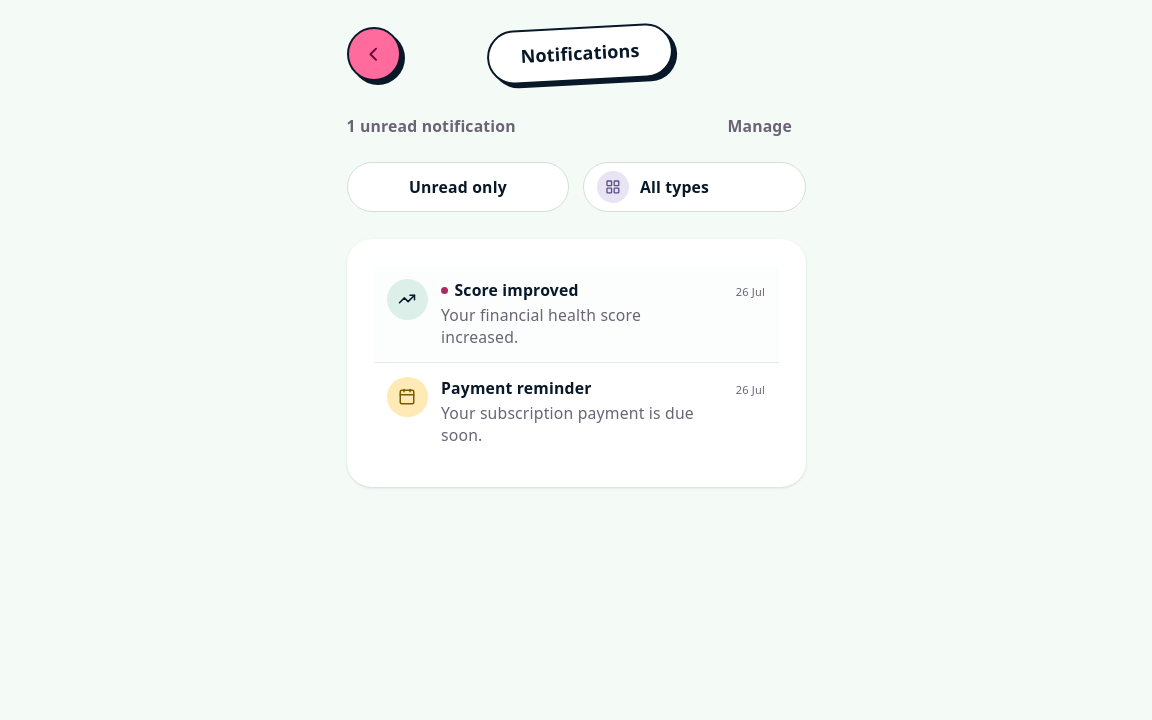
Test: NotificationsPage › sends the selected notification type
The width and height of the screenshot is (1152, 720).
Expected: the text "Score improved" is shown, [454,279,578,302]
Click the button "All types" at (694, 187), box [583,162,806,212]
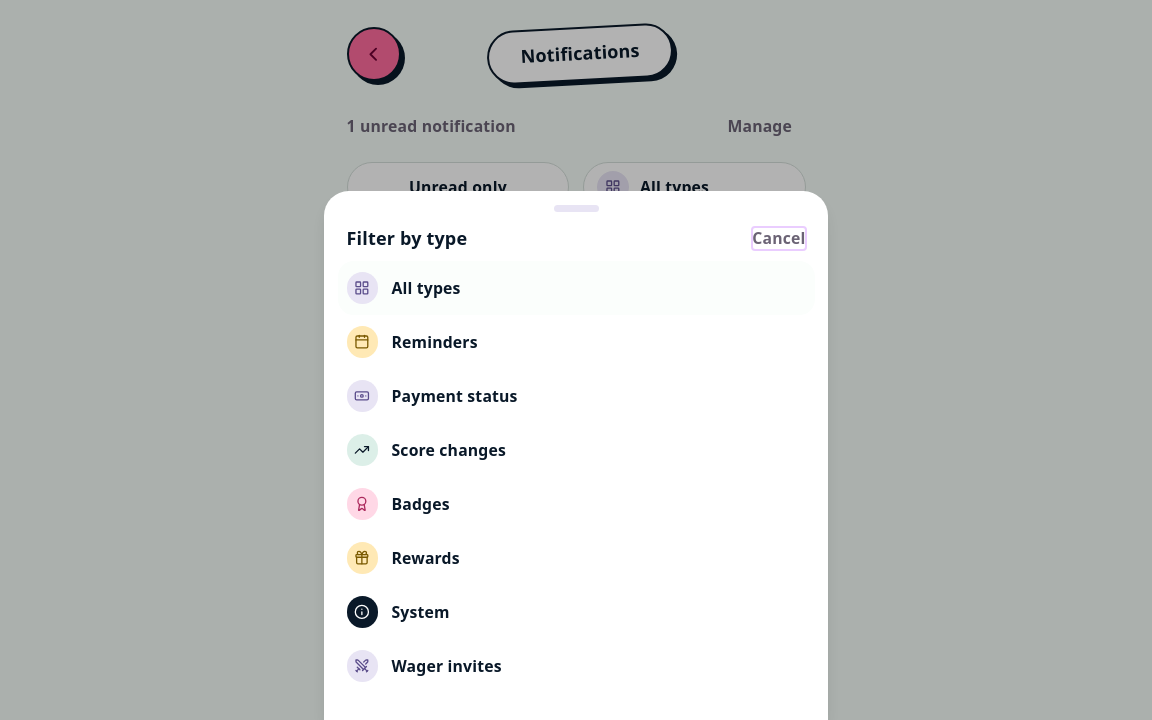
Click the button "Score changes" at (362, 450), box [338,423,814,477]
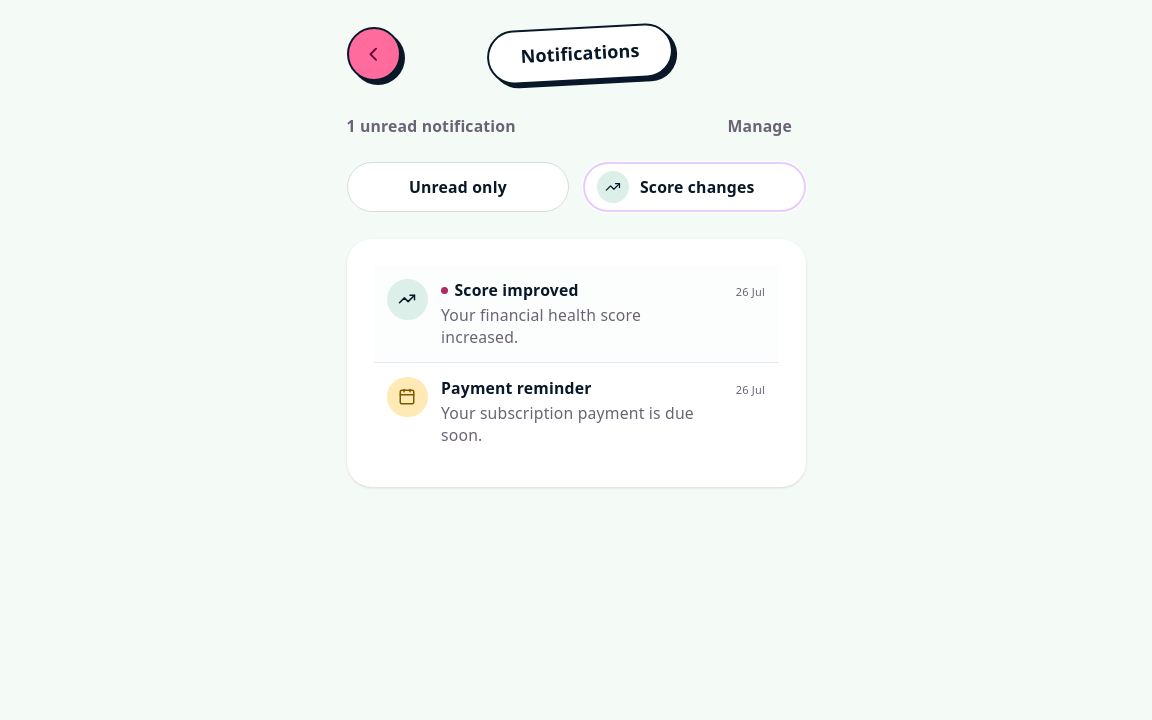
Expected: the button "Score changes" is shown, [583,162,806,212]
